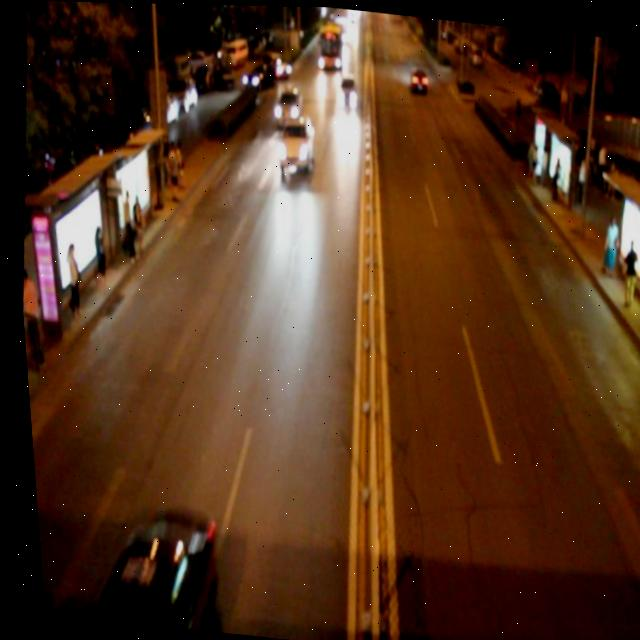car: (83, 495, 215, 631), (272, 111, 316, 172), (267, 79, 304, 129)
truck: (332, 71, 359, 110)
